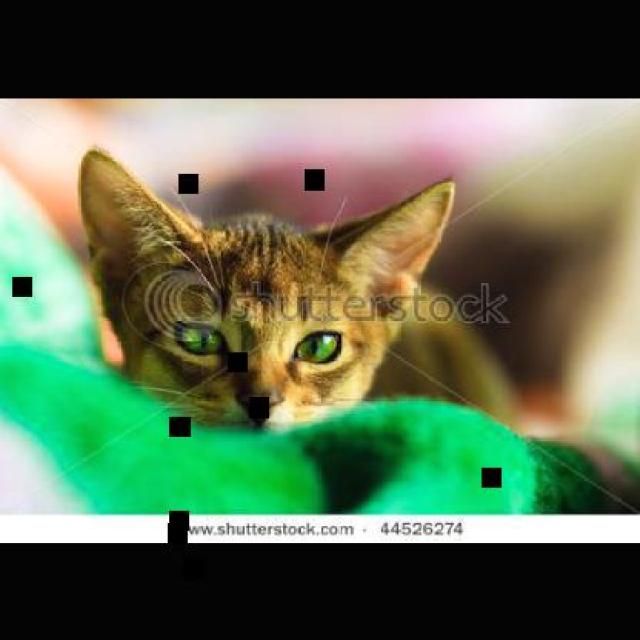unauthorized: (75, 145, 457, 432)
